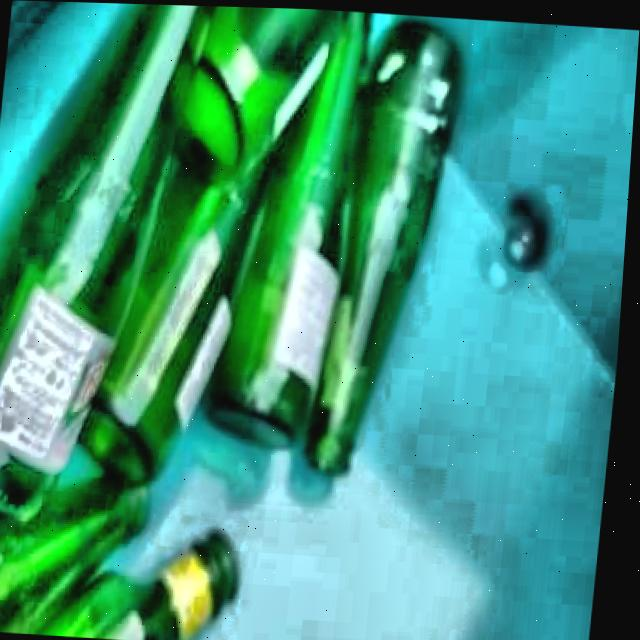glass: (0, 3, 462, 640)
